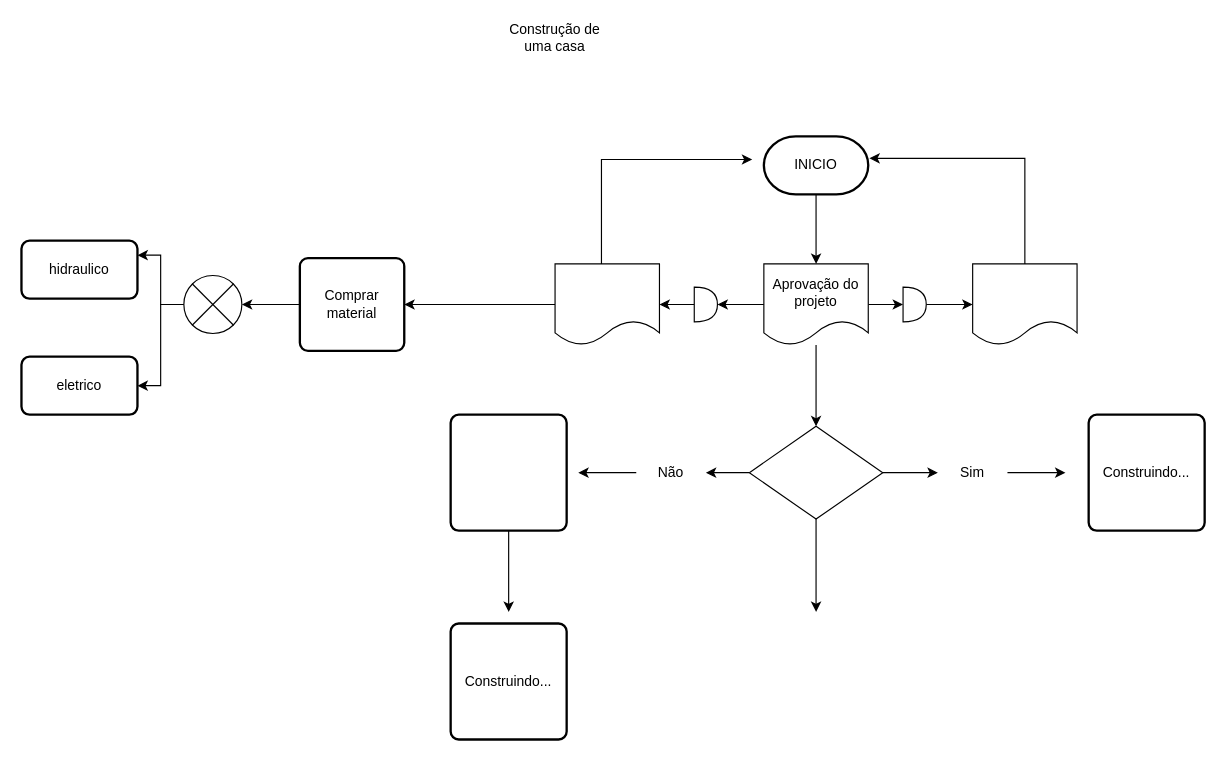
The diagram is 1225 pixels wide and 760 high, and some of its shapes have lost their labels. The shapes that lost their labels are listed below. From the top down, each one's centre as x and y in pixels, then its label:
point (606, 304): Investimento
point (1024, 304): Terreno
point (508, 472): Contrata mestre de obra
point (815, 472): Contratar uma construtora?
